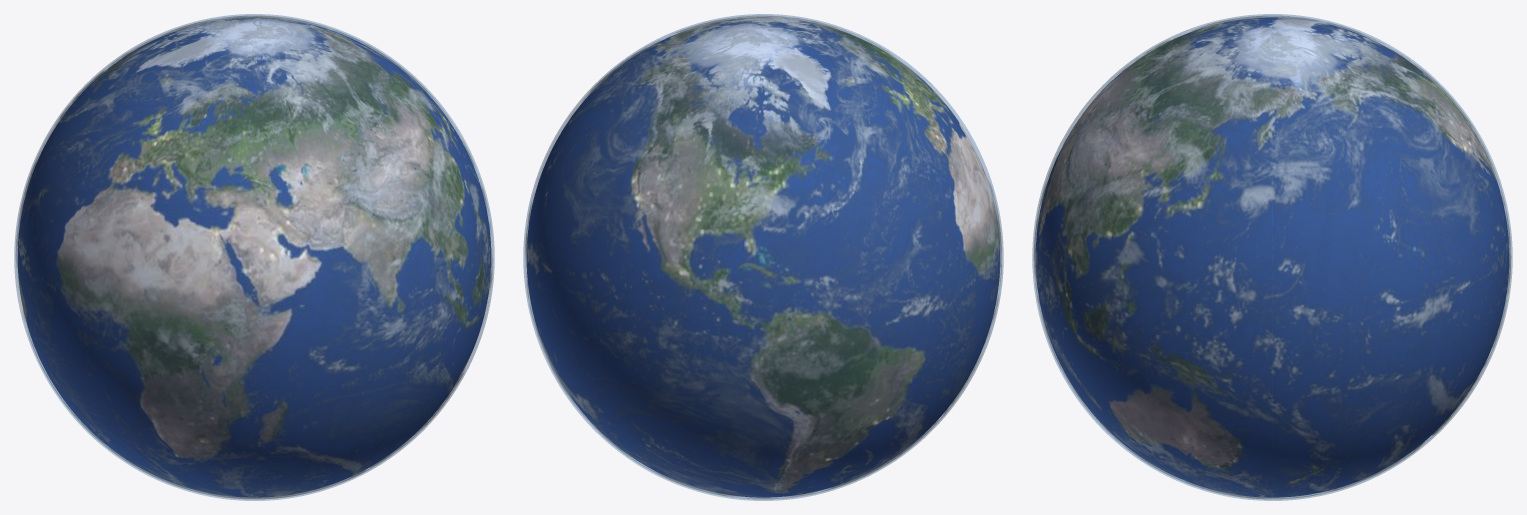
File: earthback.glb
3 views of the same model, side by side, from view 1: azimuth 30°, elevation 25°; view 2: azimuth 150°, elevation 25°; view 3: azimuth 270°, elevation 25° (orthographic).
Parts seen in each view (by area): view 1: pSphere5_lambert7_0, pSphere1_phong1_0, pSphere4_lambert6_0; view 2: pSphere5_lambert7_0, pSphere1_phong1_0, pSphere4_lambert6_0; view 3: pSphere5_lambert7_0, pSphere1_phong1_0, pSphere4_lambert6_0.
Boxes of the visible parts, x1=… form: pSphere5_lambert7_0: x1=14, y1=14, x2=494, y2=500; pSphere1_phong1_0: x1=17, y1=17, x2=491, y2=497; pSphere4_lambert6_0: x1=16, y1=15, x2=492, y2=499; pSphere5_lambert7_0: x1=523, y1=14, x2=1003, y2=500; pSphere1_phong1_0: x1=526, y1=17, x2=1000, y2=497; pSphere4_lambert6_0: x1=525, y1=15, x2=1001, y2=499; pSphere5_lambert7_0: x1=1032, y1=14, x2=1512, y2=500; pSphere1_phong1_0: x1=1035, y1=17, x2=1509, y2=497; pSphere4_lambert6_0: x1=1034, y1=15, x2=1510, y2=499.
Bounding box in the file's own units: 192 × 196 × 192.
3 materials, 2 textured.
